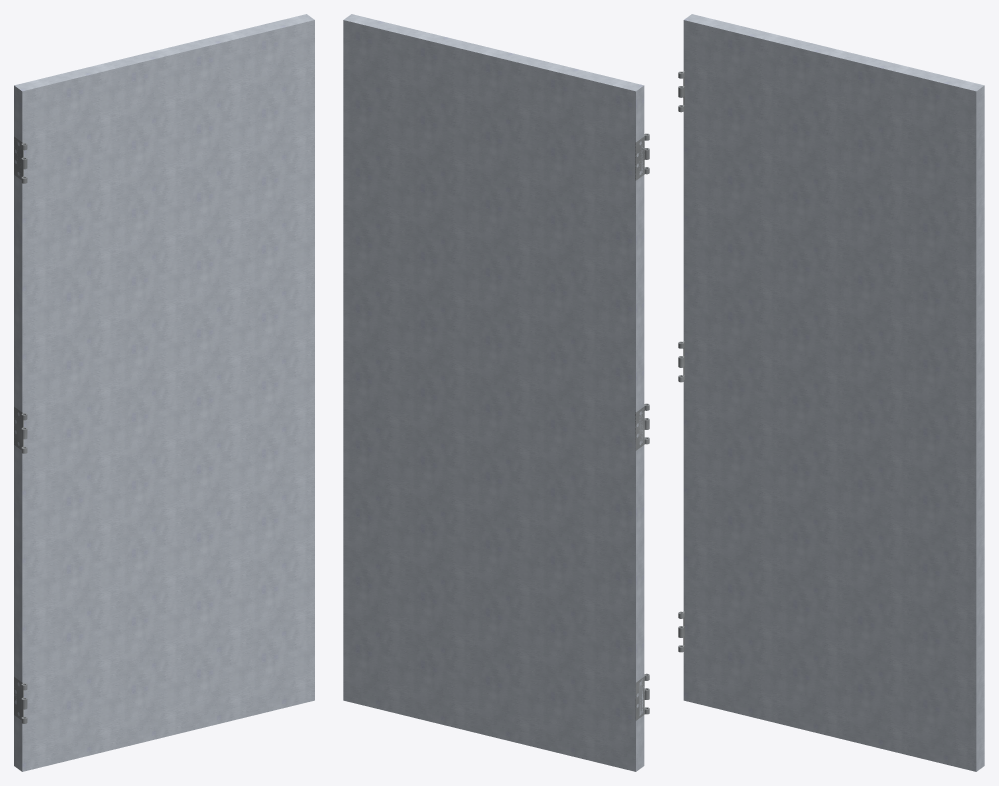
The model's file is door.dae.
3 views of the same model, side by side, from view 1: azimuth 30°, elevation 25°; view 2: azimuth 150°, elevation 25°; view 3: azimuth 330°, elevation 25° (orthographic).
Visible parts, largest first — view 1: skp2317; view 2: skp2317; view 3: skp2317.
Part boxes in pixels (x1,y1,x2,y2): skp2317: (14,14,314,771); skp2317: (343,14,644,771); skp2317: (683,14,984,771).
Size of the model in its own units: 36.33 by 2.55 by 80.
